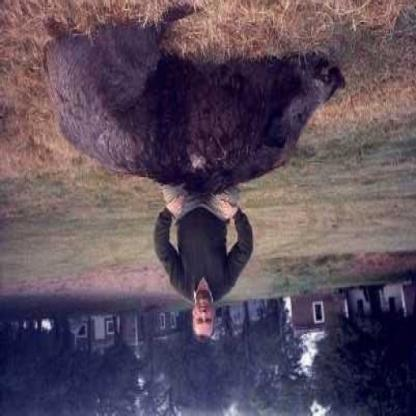boar: (40, 18, 408, 202)
